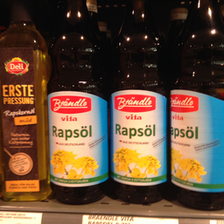oil: (46, 1, 110, 202), (108, 2, 171, 205), (170, 1, 224, 211), (1, 1, 49, 201)
